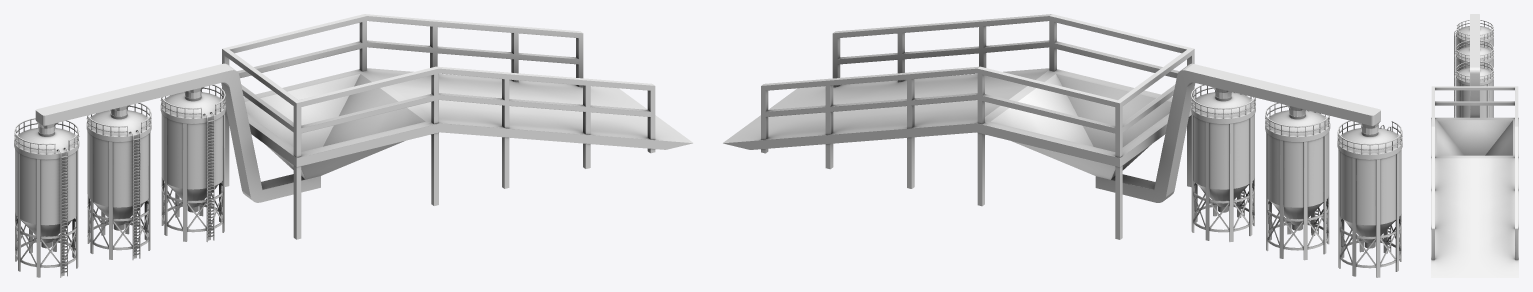
Rendered from FeedDep.fbx.
3 views of the same model, side by side, from view 1: azimuth 30°, elevation 25°; view 2: azimuth 150°, elevation 25°; view 3: azimuth 270°, elevation 25° (orthographic). The views are drawn at different scales.
Parts seen in each view (by area): view 1: Food loader, Factory Tank.001, Factory Tank, Factory Tank.002; view 2: Food loader, Factory Tank.001, Factory Tank.002, Factory Tank; view 3: Food loader, Factory Tank.002, Factory Tank, Factory Tank.001.
Boxes of the visible parts, <box> form: Food loader: <box>35,14,693,239</box>; Factory Tank.001: <box>14,118,79,277</box>; Factory Tank: <box>86,102,151,260</box>; Factory Tank.002: <box>160,84,225,242</box>; Food loader: <box>723,14,1380,239</box>; Factory Tank.001: <box>1337,120,1402,277</box>; Factory Tank.002: <box>1190,84,1255,241</box>; Factory Tank: <box>1265,103,1330,260</box>; Food loader: <box>1431,14,1518,277</box>; Factory Tank.002: <box>1454,61,1493,117</box>; Factory Tank: <box>1454,40,1493,75</box>; Factory Tank.001: <box>1454,20,1493,54</box>.
Bounding box in the file's own units: 2.84 × 0.6531 × 0.5836.
